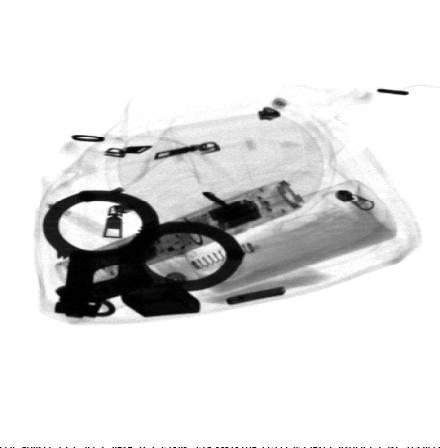Baton: (55, 181, 306, 289)
HandCuffs: (41, 188, 248, 319)
Lighter: (120, 284, 201, 318)
